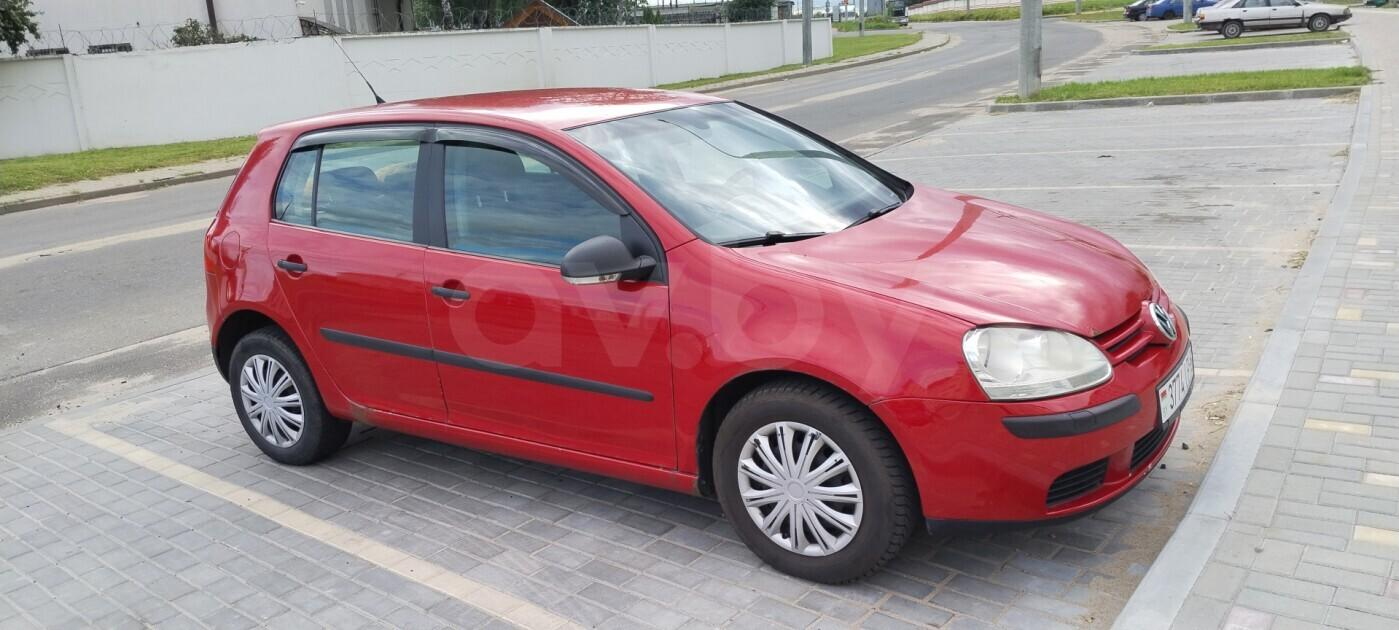Golf_2003-2009: (201, 79, 1199, 578)
